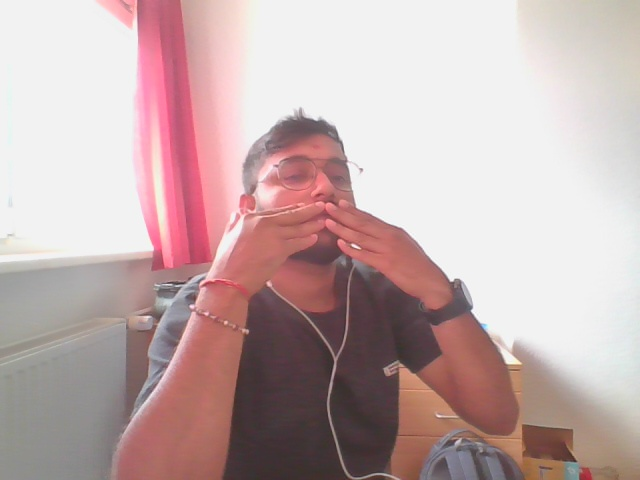ThankYou: (211, 200, 445, 288)
